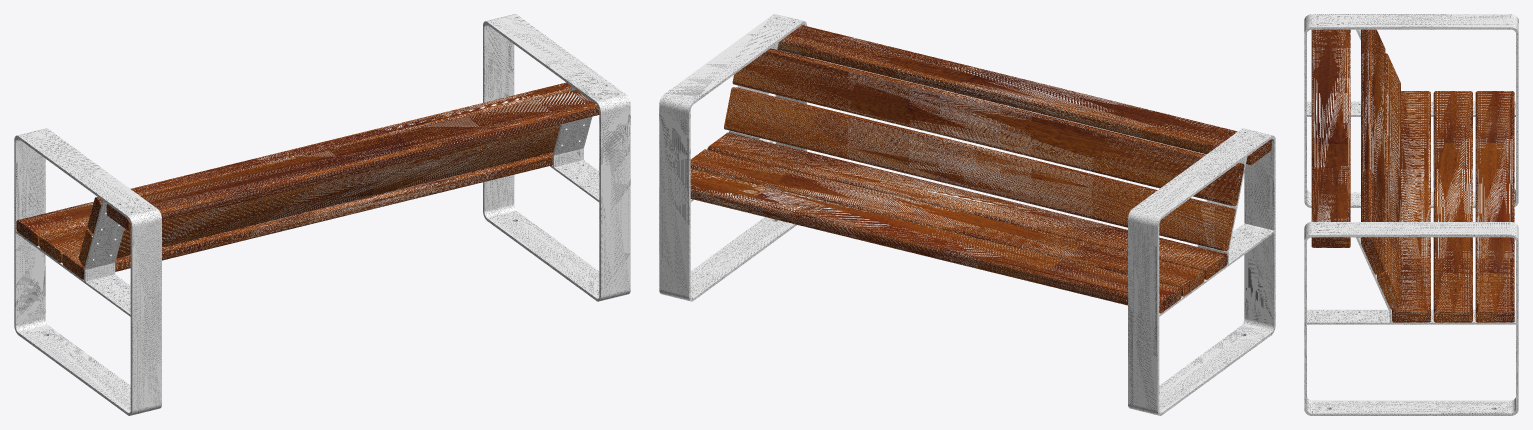
3 views of the same model, side by side, from view 1: azimuth 30°, elevation 25°; view 2: azimuth 150°, elevation 25°; view 3: azimuth 270°, elevation 25° (orthographic). The views are drawn at different scales.
Visible parts, largest first — view 1: mesh3_mesh3-geometry, mesh5_mesh5-geometry, mesh1_mesh1-geometry, mesh7_mesh7-geometry, mesh4_mesh4-geometry, mesh6_mesh6-geometry, mesh2_mesh2-geometry; view 2: mesh3_mesh3-geometry, mesh1_mesh1-geometry, mesh4_mesh4-geometry, mesh6_mesh6-geometry, mesh5_mesh5-geometry, mesh7_mesh7-geometry, mesh2_mesh2-geometry; view 3: mesh3_mesh3-geometry, mesh6_mesh6-geometry, mesh2_mesh2-geometry, mesh5_mesh5-geometry, mesh7_mesh7-geometry, mesh4_mesh4-geometry, mesh1_mesh1-geometry.
Boxes of the visible parts, x1,y1,x2,y2 form: mesh3_mesh3-geometry: (14,14,630,415); mesh5_mesh5-geometry: (106,90,599,229); mesh1_mesh1-geometry: (79,124,560,266); mesh7_mesh7-geometry: (62,152,553,279); mesh4_mesh4-geometry: (87,82,571,233); mesh6_mesh6-geometry: (16,201,93,245); mesh2_mesh2-geometry: (39,225,88,262); mesh3_mesh3-geometry: (659,14,1275,415); mesh1_mesh1-geometry: (724,87,1235,250); mesh4_mesh4-geometry: (732,48,1244,205); mesh6_mesh6-geometry: (690,168,1181,313); mesh5_mesh5-geometry: (777,25,1271,165); mesh7_mesh7-geometry: (707,132,1227,279); mesh2_mesh2-geometry: (690,149,1204,296); mesh3_mesh3-geometry: (1304,14,1518,415); mesh6_mesh6-geometry: (1475,91,1514,322); mesh2_mesh2-geometry: (1433,91,1472,322); mesh5_mesh5-geometry: (1311,29,1350,247); mesh7_mesh7-geometry: (1392,91,1430,322); mesh4_mesh4-geometry: (1361,29,1385,274); mesh1_mesh1-geometry: (1377,53,1400,309).
Bounding box in the file's own units: 0.8725 × 0.3329 × 0.3577.
